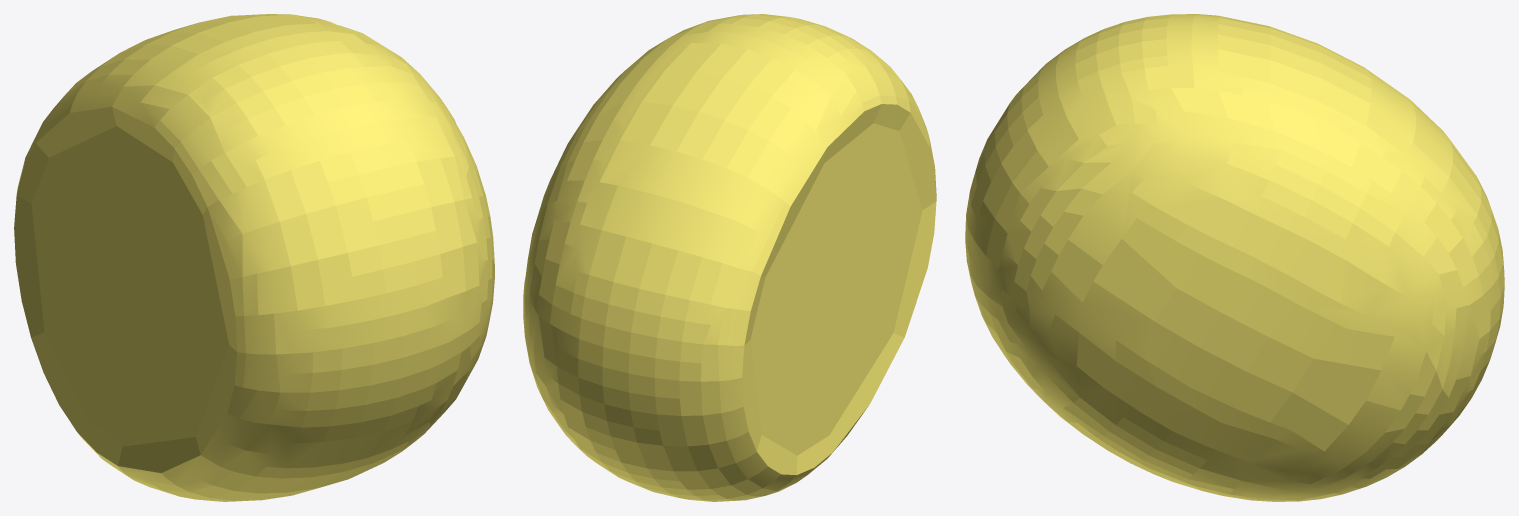
File: YellowOPT.fbx
3 views of the same model, side by side, from view 1: azimuth 30°, elevation 25°; view 2: azimuth 150°, elevation 25°; view 3: azimuth 270°, elevation 25° (orthographic). The views are drawn at different scales.
Parts seen in each view (by area): view 1: Cube.001; view 2: Cube.001; view 3: Cube.001.
Boxes of the visible parts, x1,y1,x2,y2 form: Cube.001: (14,14,494,501); Cube.001: (523,14,936,501); Cube.001: (965,14,1504,501).
Bounding box in the file's own units: 314 × 461 × 505.
